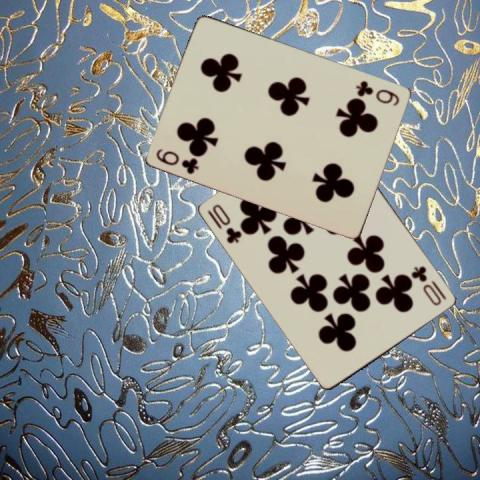10c: (408, 263, 448, 307), (205, 202, 244, 246)
6c: (153, 145, 201, 176), (354, 78, 402, 108)
